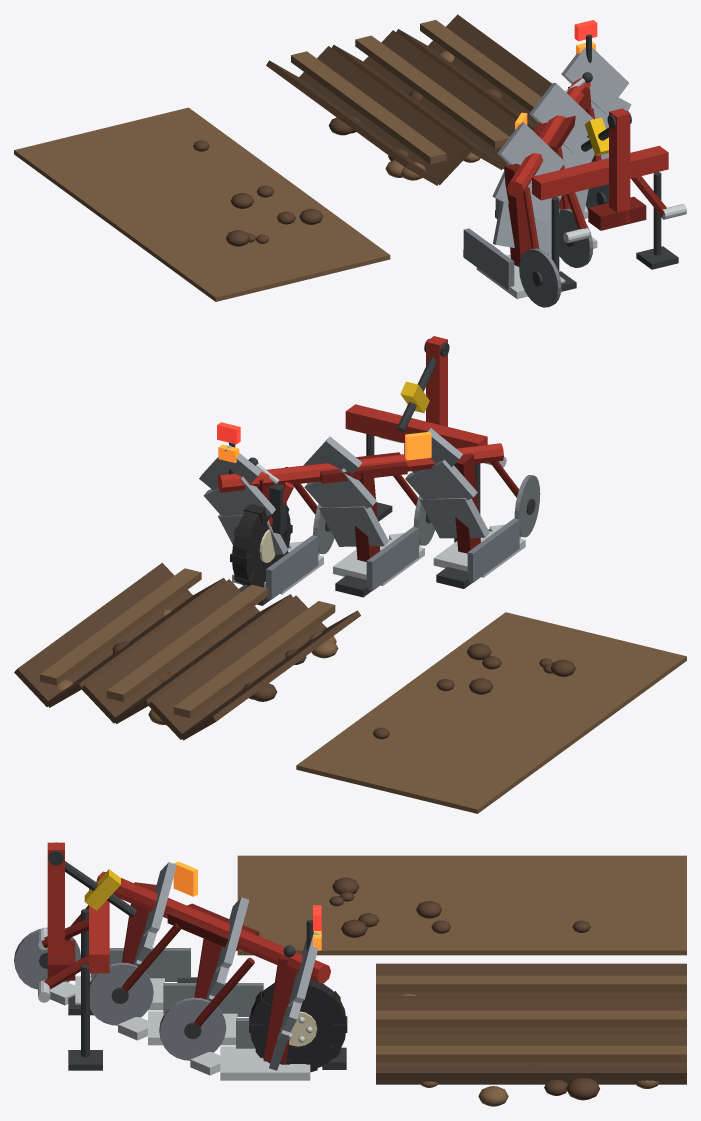
File: plow.glb
3 views of the same model, one above another, from view 1: azimuth 30°, elevation 25°; view 2: azimuth 150°, elevation 25°; view 3: azimuth 270°, elevation 25° (orthographic). The views are drawn at different scales.
Parts seen in each view (by area): view 1: FurrowProps, PlowBody; view 2: FurrowProps, PlowBody, DepthWheel; view 3: FurrowProps, PlowBody, DepthWheel.
Part boxes in pixels (box(x1,y1,x2,y2)): FurrowProps: box(14, 14, 551, 301); PlowBody: box(463, 20, 686, 307); FurrowProps: box(14, 562, 686, 813); PlowBody: box(199, 336, 540, 605); DepthWheel: box(230, 500, 292, 587); FurrowProps: box(237, 855, 686, 1106); PlowBody: box(14, 842, 346, 1080); DepthWheel: box(249, 979, 347, 1072).
Bounding box in the file's own units: 3.43 × 1.21 × 3.89.
